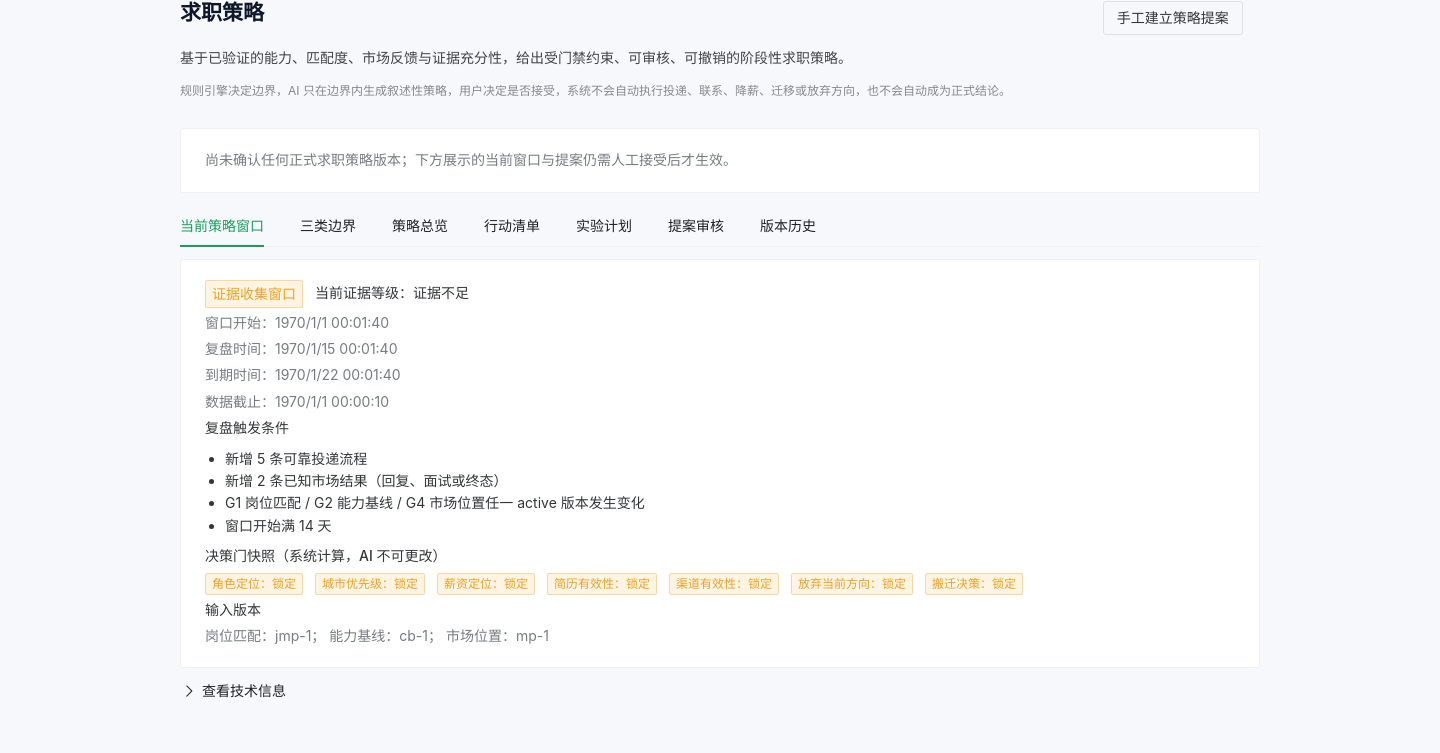
StrategyWindowPage › 三类边界清晰展示，禁止动作不出现在“现在可以做”
What coordinates should you click on to do the following:
click the element with class "n-tabs-tab" showing "三类边界"
I would click on:
 (328, 225)
Its box is top-left (300, 217), bottom-right (356, 234).
(page scrolled)
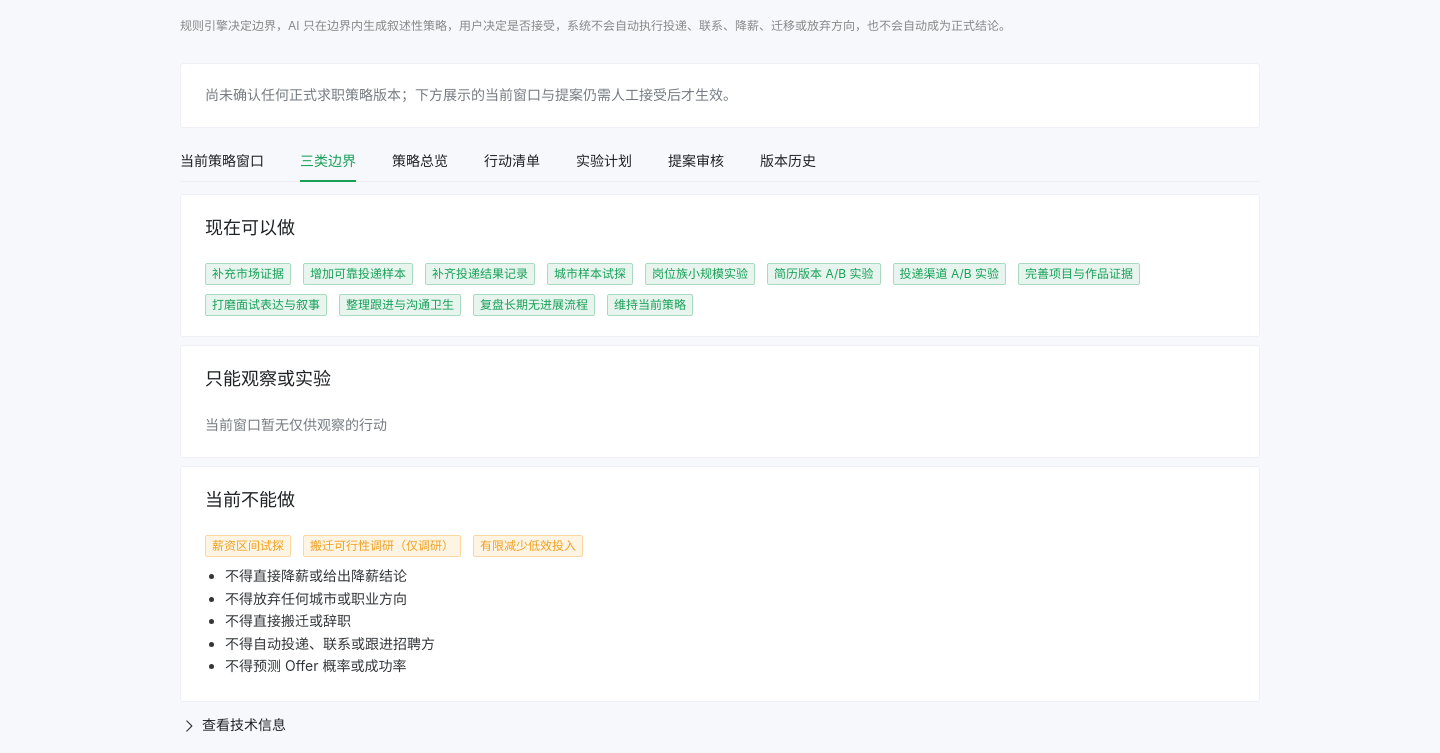
Expected: the element with test id "sw-can-do" is shown, top-left (180, 194), bottom-right (1260, 337)
Expected: the element with test id "sw-observe-only" is shown, top-left (180, 345), bottom-right (1260, 458)
Expected: the element with test id "sw-cannot-do" is shown, top-left (180, 466), bottom-right (1260, 702)
